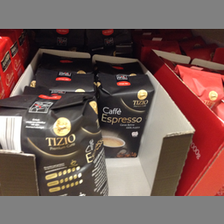coffee: (1, 95, 108, 195), (95, 62, 155, 158)
